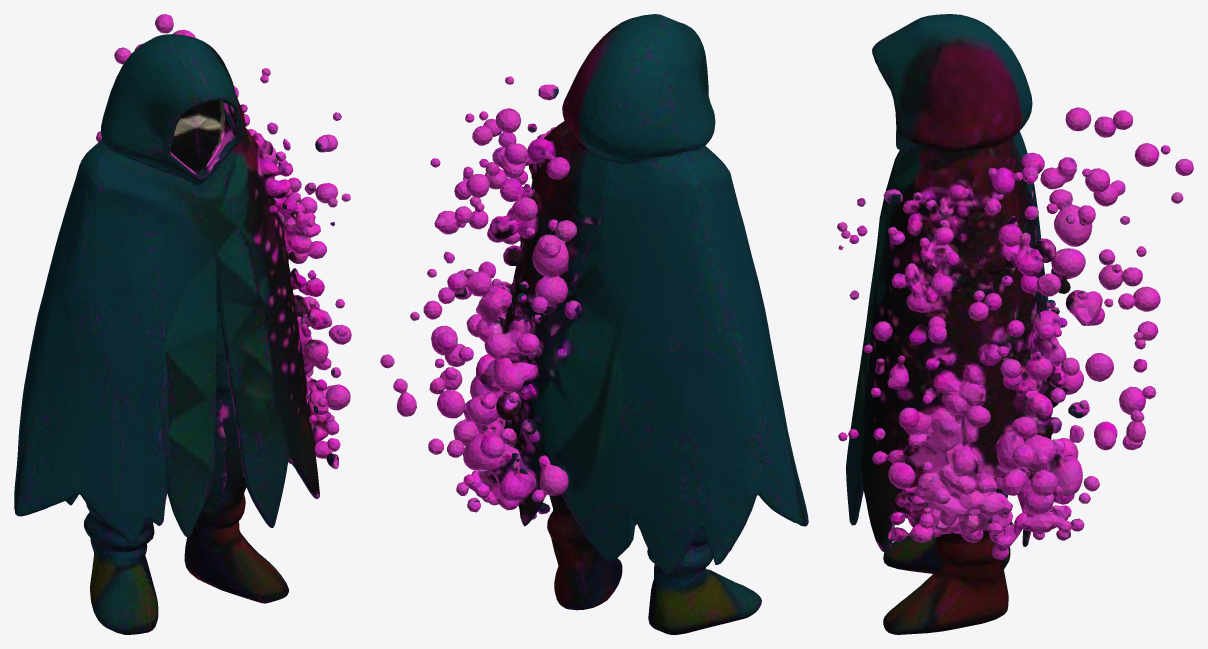
File: RIFTWALKER.glb
3 renders of one model, left to right at view 1: azimuth 30°, elevation 25°; view 2: azimuth 150°, elevation 25°; view 3: azimuth 270°, elevation 25°, orthographic. The views are drawn at different scales.
Parts seen in each view (by area): view 1: RIFTWALKER_512; view 2: RIFTWALKER_512; view 3: RIFTWALKER_512.
Part boxes in pixels (x1,y1,x2,y2): RIFTWALKER_512: (14,14,351,634); RIFTWALKER_512: (380,14,808,634); RIFTWALKER_512: (837,14,1193,634).
Size of the model in its own units: 1.19 by 1.99 by 1.12.
1 material, 1 textured.
